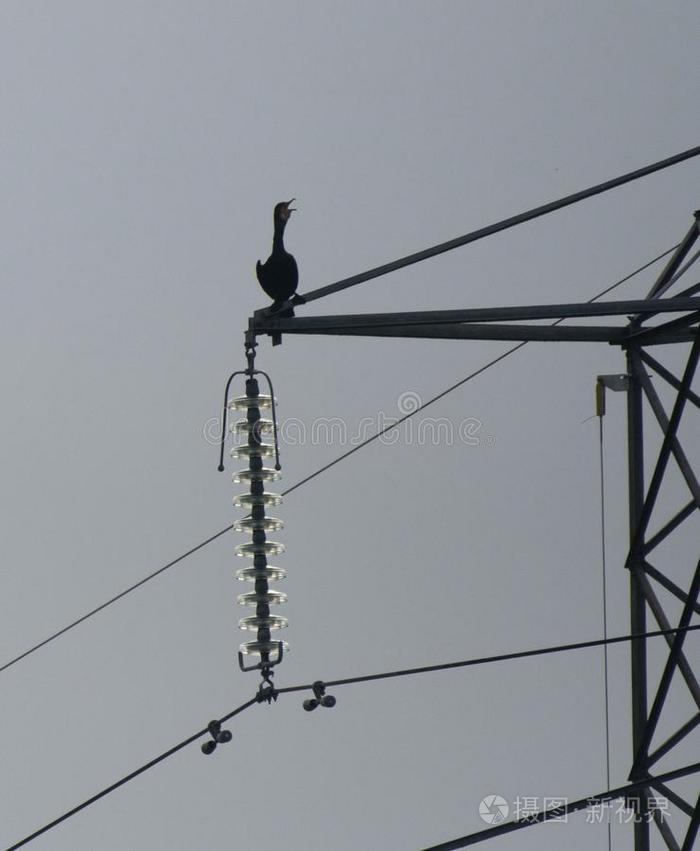insulator: (224, 391, 292, 655)
